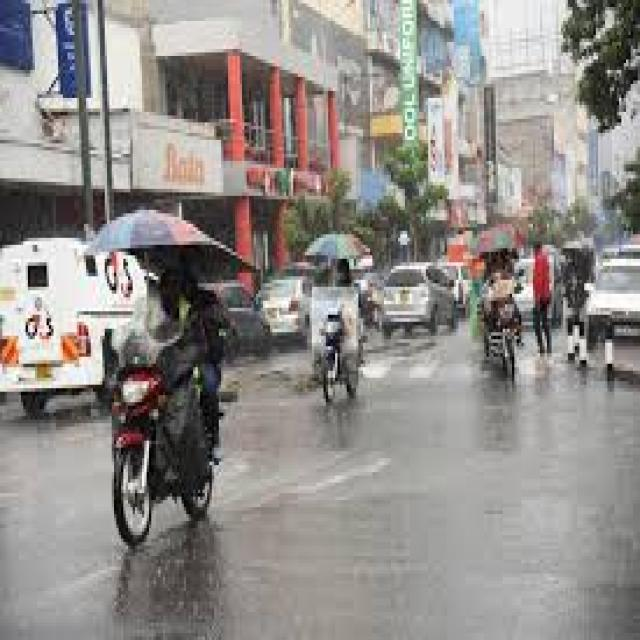bodaboda: (86, 318, 246, 545), (294, 300, 382, 404), (478, 271, 531, 393)
